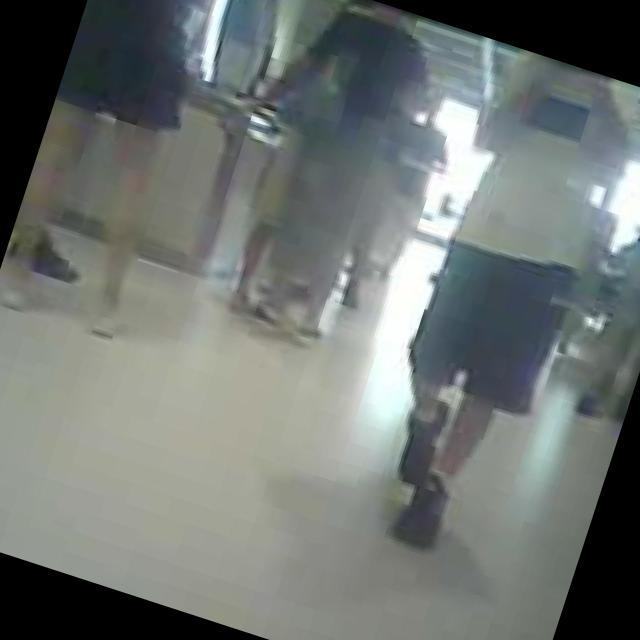person: (347, 43, 640, 573), (162, 0, 440, 352), (0, 0, 240, 346), (217, 0, 382, 331), (362, 81, 476, 290), (573, 106, 640, 426)
